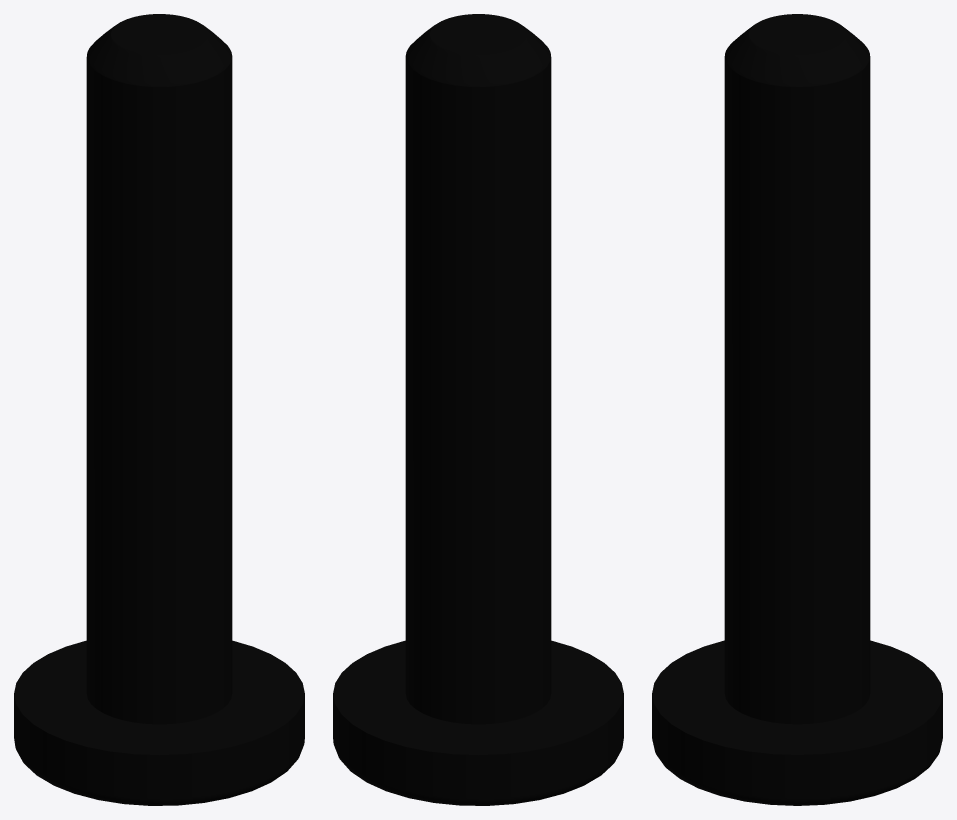
The model's file is Shtift_30_test.glb.
The picture shows the model from 3 angles, left to right: view 1: azimuth 30°, elevation 25°; view 2: azimuth 150°, elevation 25°; view 3: azimuth 270°, elevation 25°; orthographic projection.
Parts seen in each view (by area): view 1: Shtift_30; view 2: Shtift_30; view 3: Shtift_30.
Part boxes in pixels (left/top/right/bottom): Shtift_30: left=14, top=14, right=304, bottom=805; Shtift_30: left=333, top=14, right=623, bottom=805; Shtift_30: left=652, top=14, right=942, bottom=805.
Bounding box in the file's own units: 0.012 × 0.0325 × 0.012.
Materials: 1 (1 with a texture image).
